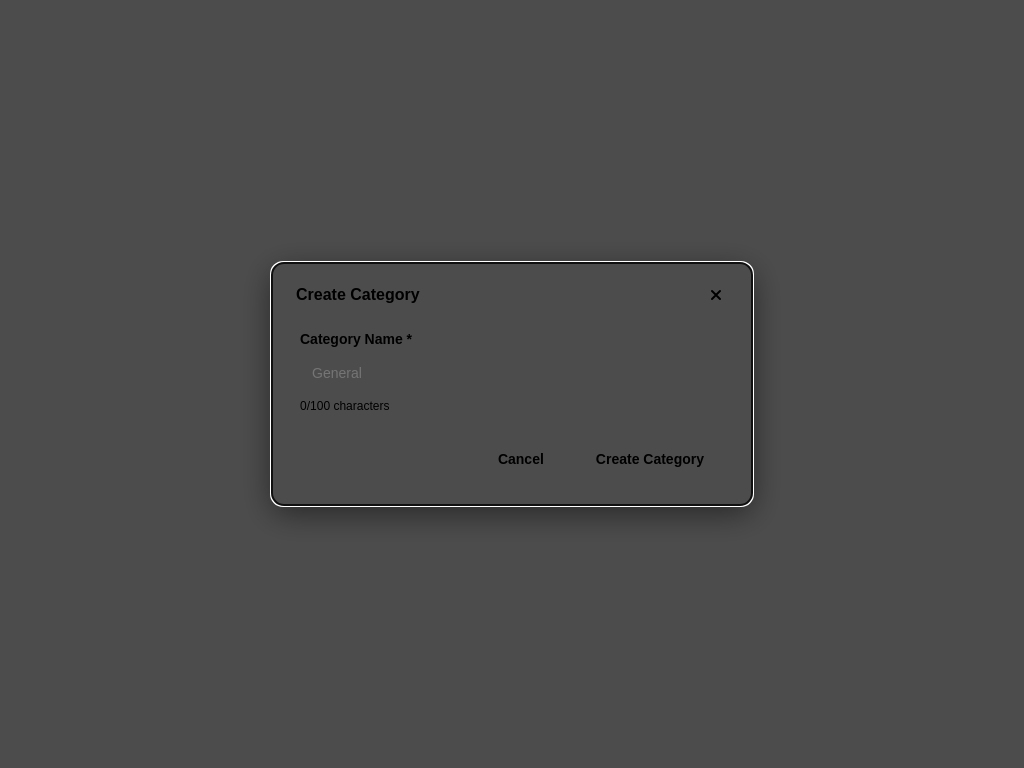
Scenario: CreateCategoryModal › shows error on API failure
This screenshot has width=1024, height=768.
Type "Existing Category" into the field with placeholder "General" at (512, 373), box [300,355,724,391]
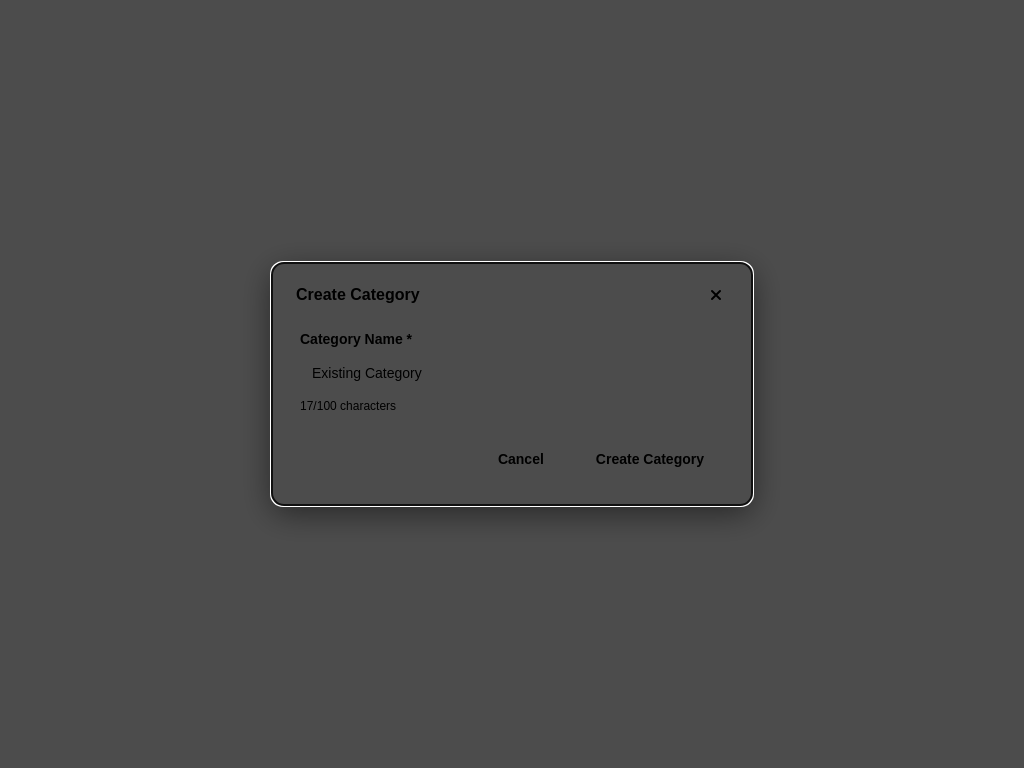
Click the button "Create Category" at (650, 459), box [576,441,724,477]
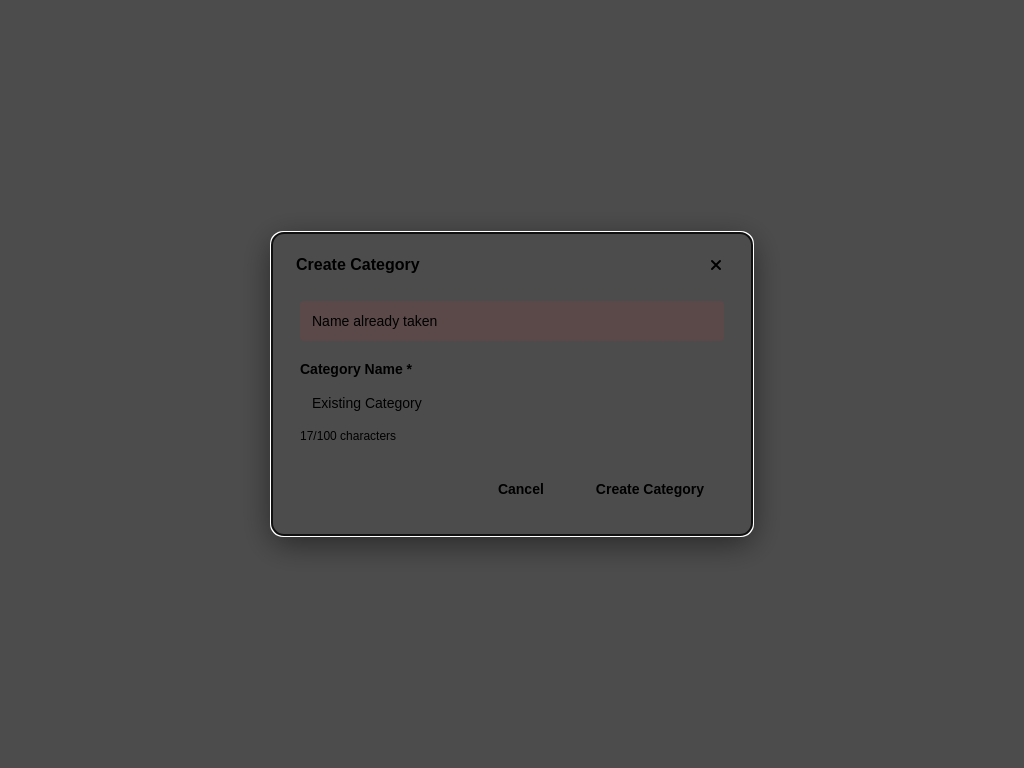
expect the text "Name already taken" is shown: met, box [300,301,724,341]
